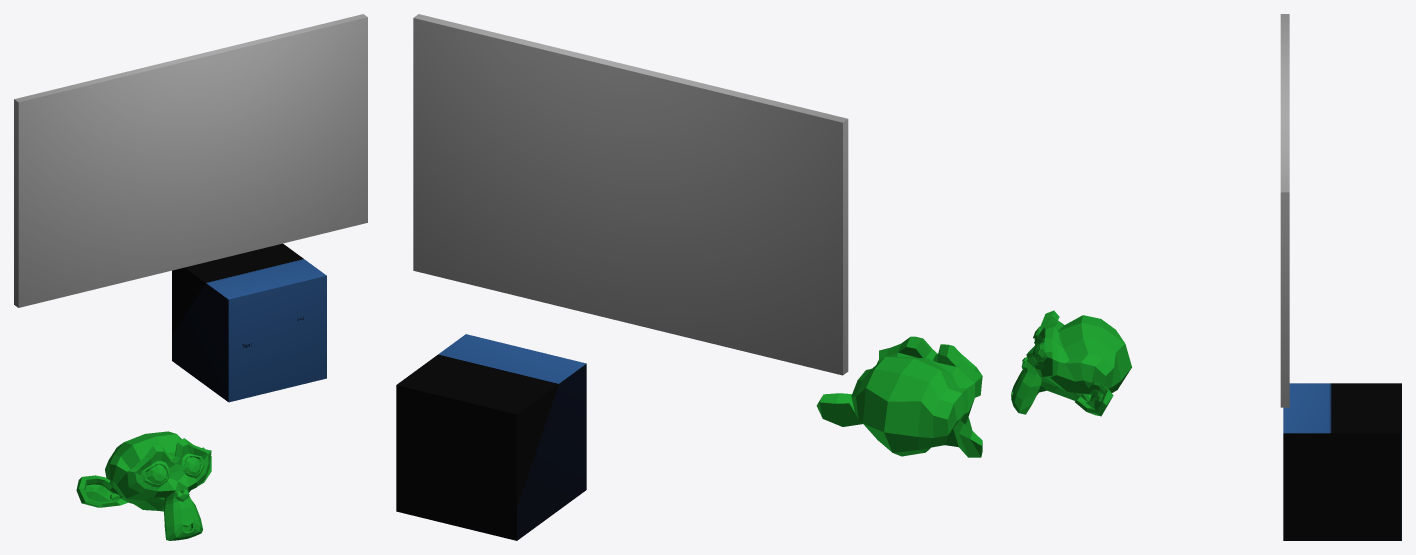
3 views of the same model, side by side, from view 1: azimuth 30°, elevation 25°; view 2: azimuth 150°, elevation 25°; view 3: azimuth 270°, elevation 25° (orthographic). The views are drawn at different scales.
Parts seen in each view (by area): view 1: screen, Cube, Suzanne; view 2: screen, Cube, Suzanne; view 3: Cube, Suzanne, screen.
Boxes of the visible parts, box(x1,y1,x2,y2) form: screen: box(14, 14, 367, 307); Cube: box(172, 243, 326, 402); Suzanne: box(76, 431, 211, 540); screen: box(413, 14, 848, 375); Cube: box(396, 334, 586, 540); Suzanne: box(816, 336, 982, 457); Cube: box(1283, 383, 1401, 540); Suzanne: box(1011, 310, 1131, 416); screen: box(1280, 14, 1289, 407).
Size of what is drawn, in the model's own units: 7.63 by 6.93 by 6.58.
Materials: 3 (2 with a texture image).
